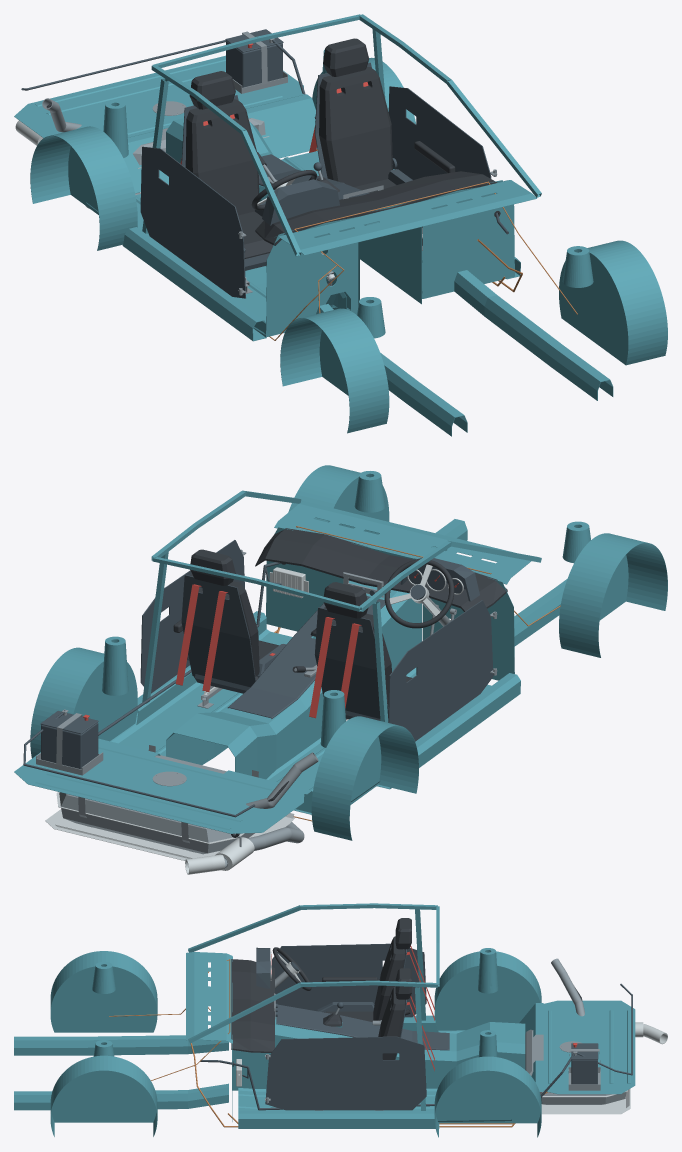
The model's file is structure.glb.
The picture shows the model from 3 angles, top to bottom: view 1: azimuth 30°, elevation 25°; view 2: azimuth 150°, elevation 25°; view 3: azimuth 270°, elevation 25°; orthographic projection. The views are drawn at different scales.
Parts seen in each view (by area): view 1: BIW-003, INT-060-R, BIW-014-R, INT-004-L, BIW-004, BIW-012-R, BIW-023, INT-004-R, INT-060-L, BIW-014-L, BIW-011-L, INT-030 (+24 smaller); view 2: BIW-004, BIW-002, INT-060-R, BIW-014-R, BIW-012-R, BIW-023, INT-030, INT-002-L, BIW-003, INT-002-R, INT-035, INT-060-L (+40 smaller); view 3: INT-060-L, BIW-004, INT-060-R, BIW-015-R, BIW-002, BIW-013-R, BIW-013-L, BIW-015-L, BIW-023, BIW-010-L, BIW-011-R, INT-030 (+33 smaller).
Boxes of the visible parts, left/top/right/bottom form: BIW-003: left=266, top=180, right=514, bottom=337; INT-060-R: left=140, top=146, right=245, bottom=298; BIW-014-R: left=280, top=308, right=388, bottom=433; INT-004-L: left=319, top=66, right=392, bottom=186; BIW-004: left=14, top=55, right=304, bottom=138; BIW-012-R: left=30, top=126, right=137, bottom=250; BIW-023: left=274, top=180, right=536, bottom=255; INT-004-R: left=185, top=99, right=259, bottom=215; INT-060-L: left=388, top=86, right=491, bottom=179; BIW-014-L: left=587, top=240, right=667, bottom=365; BIW-011-L: left=454, top=270, right=613, bottom=400; INT-030: left=255, top=171, right=497, bottom=245; BIW-004: left=14, top=743, right=304, bottom=833; BIW-002: left=166, top=580, right=421, bottom=779; INT-060-R: left=388, top=600, right=493, bottom=741; BIW-014-R: left=559, top=533, right=667, bottom=657; BIW-012-R: left=312, top=716, right=418, bottom=840; BIW-023: left=274, top=501, right=531, bottom=584; INT-030: left=255, top=528, right=507, bottom=611; INT-002-L: left=181, top=574, right=255, bottom=687; BIW-003: left=266, top=527, right=514, bottom=680; INT-002-R: left=314, top=607, right=388, bottom=718; INT-035: left=227, top=596, right=385, bottom=718; INT-060-L: left=140, top=540, right=244, bottom=693; INT-060-L: left=265, top=1036, right=426, bottom=1110; BIW-004: left=543, top=1000, right=635, bottom=1094; INT-060-R: left=270, top=943, right=426, bottom=1017; BIW-015-R: left=50, top=966, right=157, bottom=1032; BIW-002: left=232, top=1017, right=525, bottom=1090; BIW-013-R: left=434, top=965, right=540, bottom=1030; BIW-013-L: left=435, top=1056, right=540, bottom=1123; BIW-015-L: left=51, top=1055, right=156, bottom=1122; BIW-023: left=186, top=952, right=232, bottom=1043; BIW-010-L: left=238, top=1110, right=439, bottom=1128; BIW-011-R: left=14, top=1035, right=228, bottom=1055; INT-030: left=231, top=959, right=274, bottom=1052.
Size of the model in its own units: 1.8 by 1.03 by 4.14.
